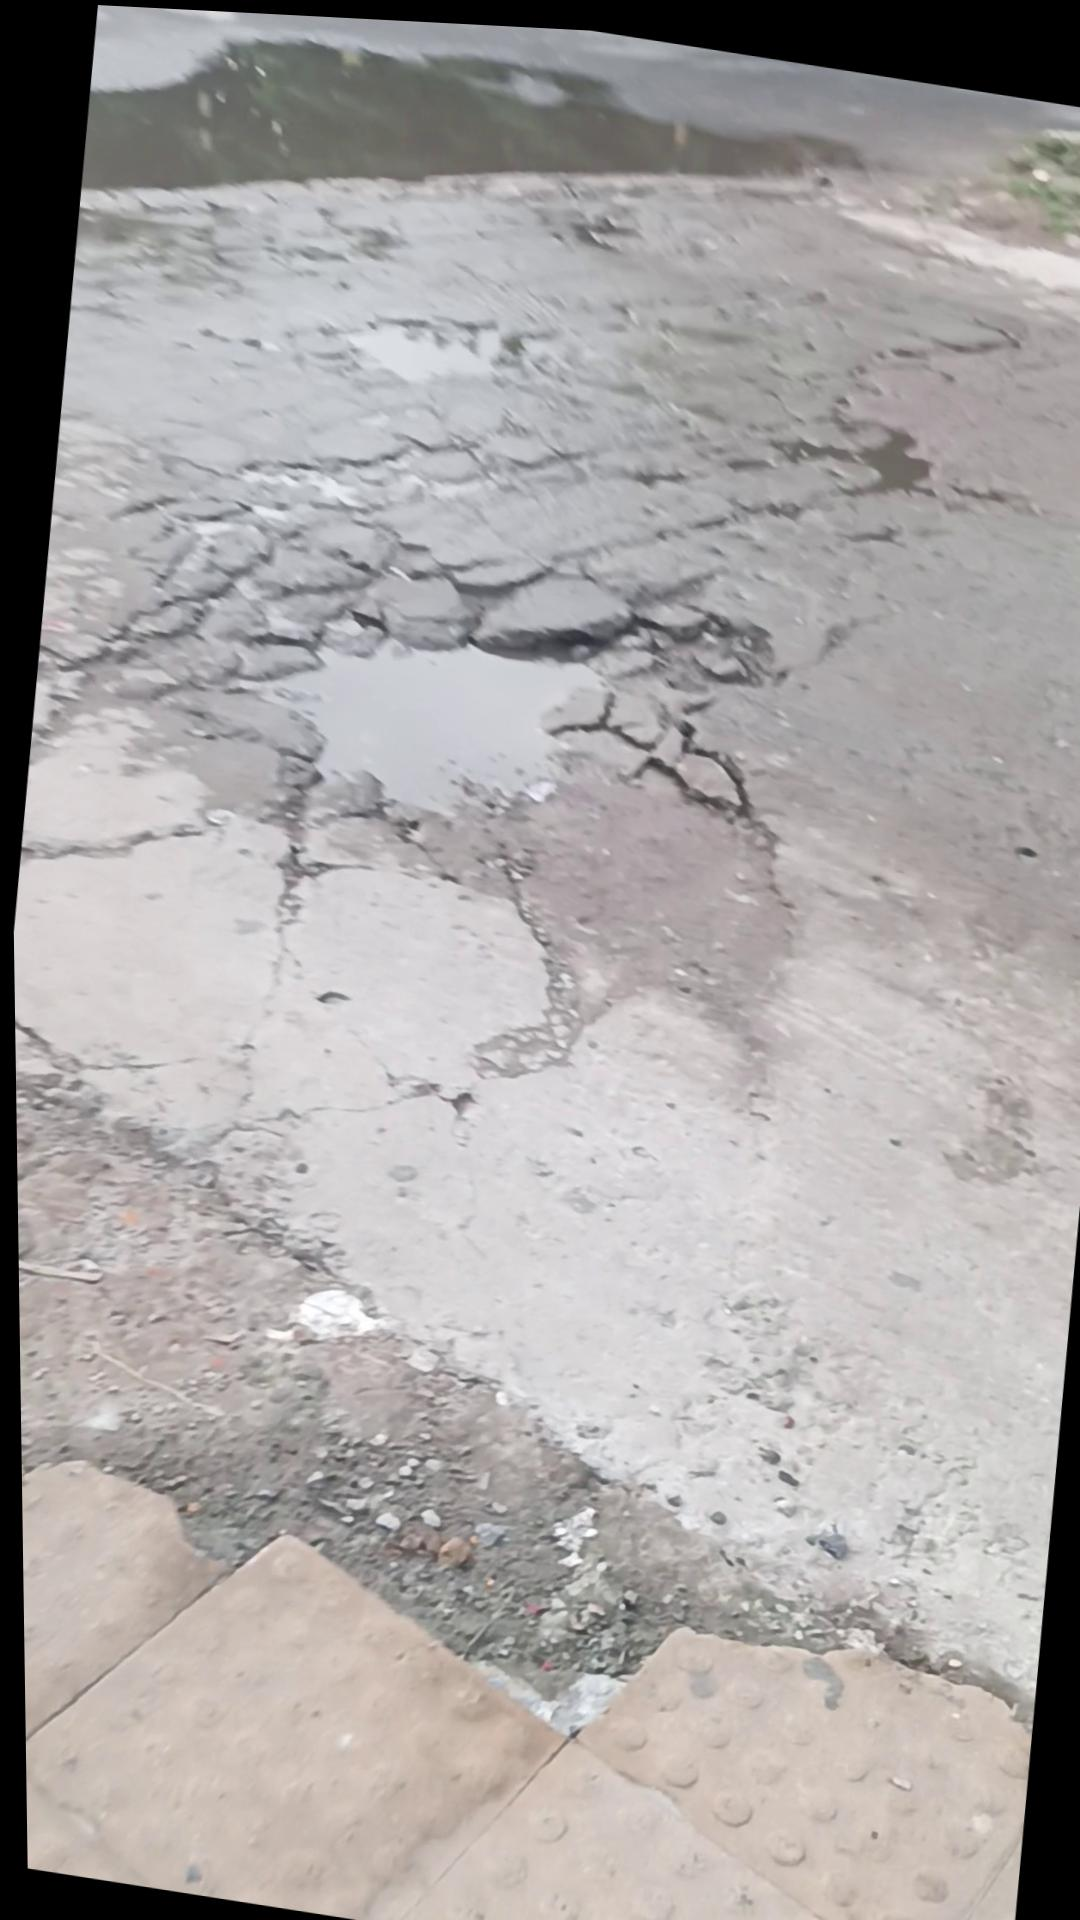Potted-plant: (17, 1443, 1038, 1920)
Railroad-crossing: (74, 3, 1033, 368), (236, 502, 728, 909)
